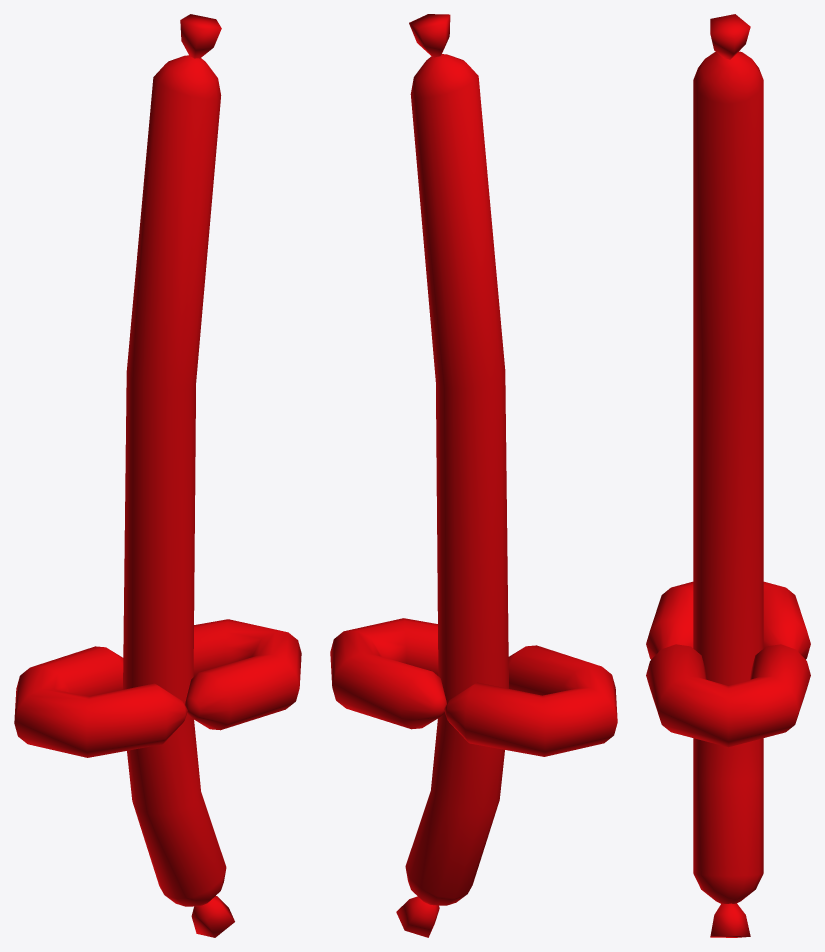
File: Mesh_BalloonSword.fbx
The picture shows the model from 3 angles, left to right: view 1: azimuth 30°, elevation 25°; view 2: azimuth 150°, elevation 25°; view 3: azimuth 270°, elevation 25°; orthographic projection.
Parts seen in each view (by area): view 1: BalloonSwordWeapon; view 2: BalloonSwordWeapon; view 3: BalloonSwordWeapon.
Part boxes in pixels (bbox=[...]): BalloonSwordWeapon: bbox=[14, 14, 301, 937]; BalloonSwordWeapon: bbox=[330, 14, 617, 937]; BalloonSwordWeapon: bbox=[646, 14, 810, 937].
Bounding box in the file's own units: 139 × 423 × 69.06.
